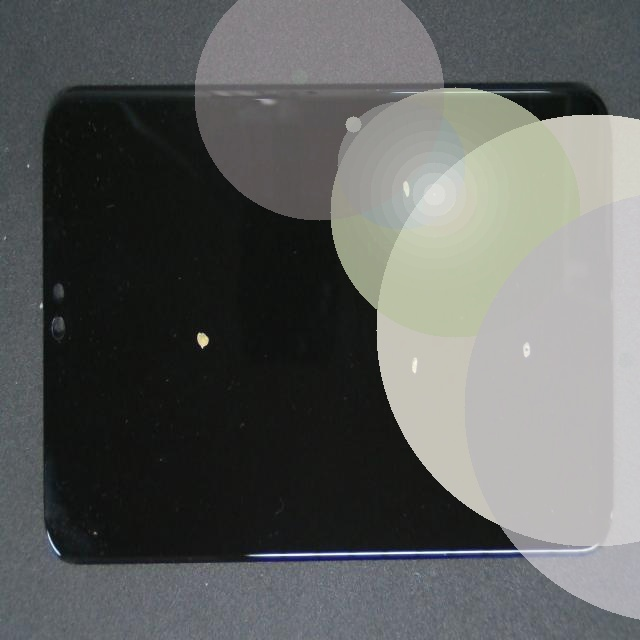stain: (225, 157, 619, 507), (289, 189, 640, 507), (222, 85, 620, 251), (104, 136, 293, 476)
